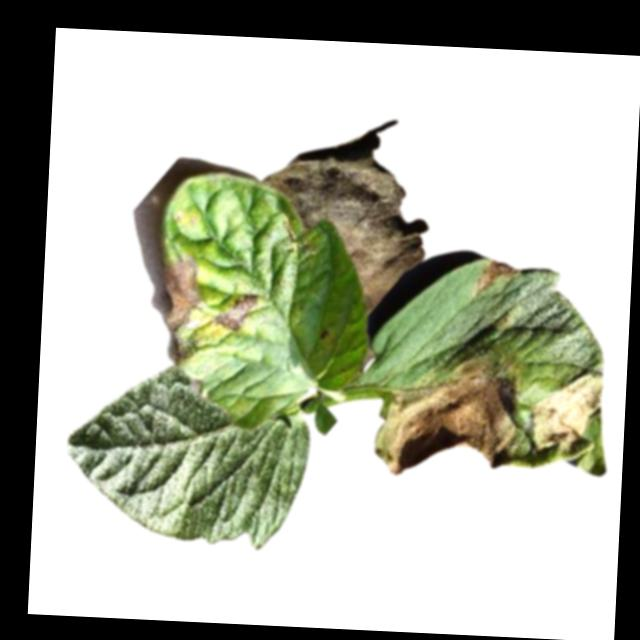Late_blight: (257, 153, 429, 318), (373, 337, 527, 481), (529, 368, 605, 458), (161, 251, 210, 335), (213, 290, 259, 333), (473, 257, 518, 296), (175, 335, 199, 363), (317, 326, 331, 342)
